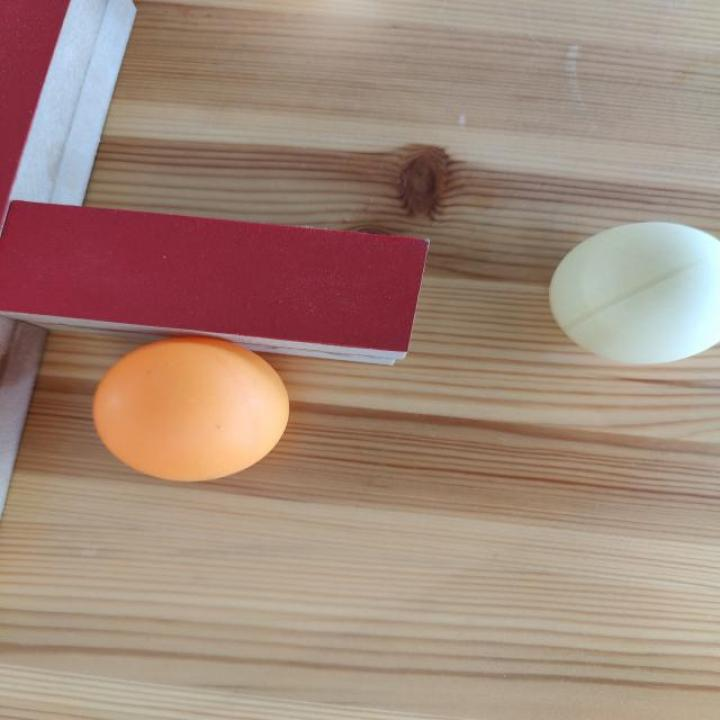orange: (92, 346, 274, 481)
white: (548, 222, 720, 368)
